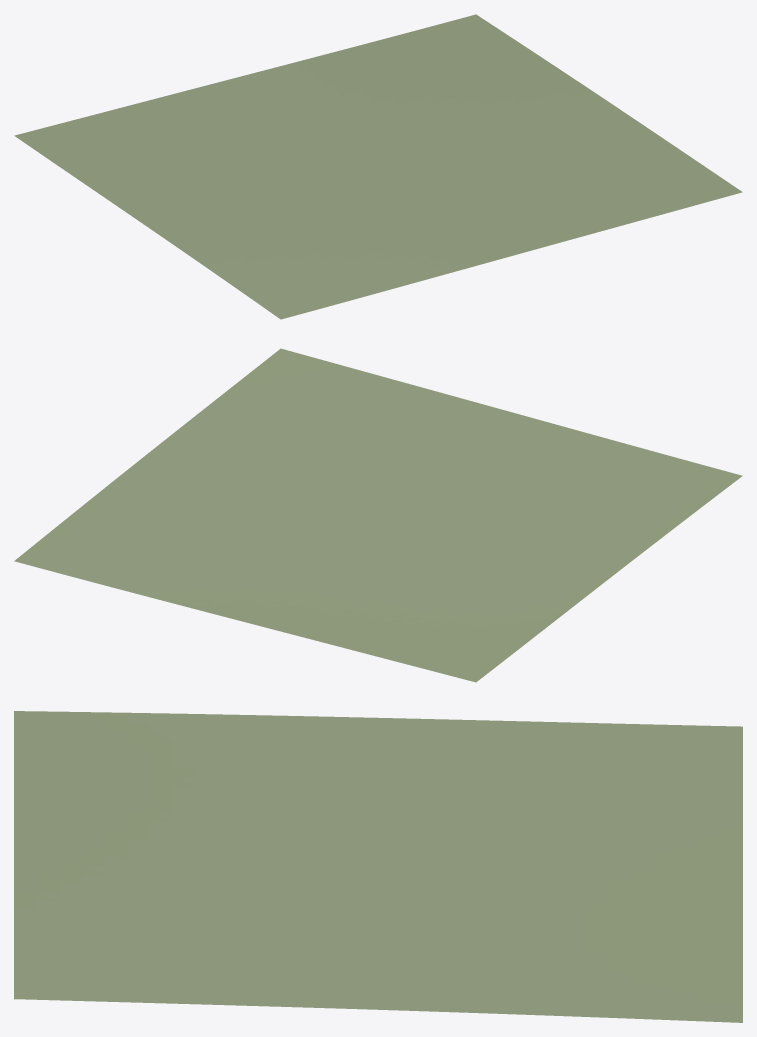
Rendered from expanse-4-22.glb.
The picture shows the model from 3 angles, top to bottom: view 1: azimuth 30°, elevation 25°; view 2: azimuth 150°, elevation 25°; view 3: azimuth 270°, elevation 25°; orthographic projection. The views are drawn at different scales.
Parts seen in each view (by area): view 1: expanse-4-22; view 2: expanse-4-22; view 3: expanse-4-22.
Boxes of the visible parts, <box> form: expanse-4-22: <box>14,14,742,319</box>; expanse-4-22: <box>14,348,742,682</box>; expanse-4-22: <box>14,711,742,1022</box>.
Size of the model in its own units: 256 by 13.74 by 256.
